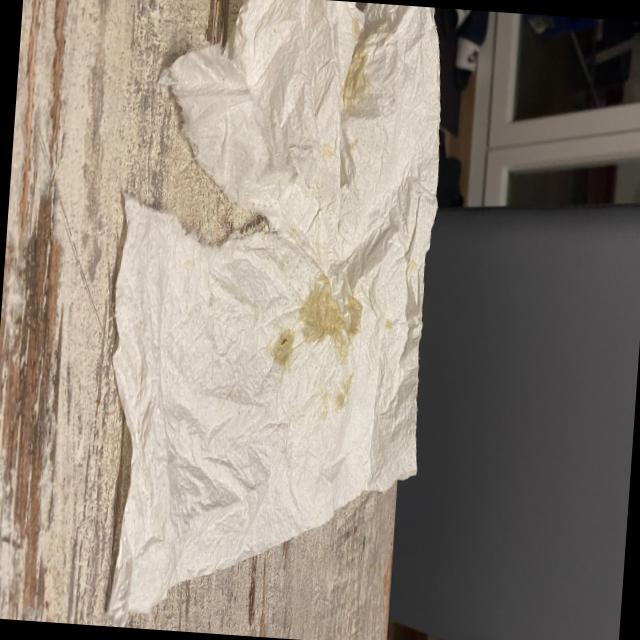organic waste: (86, 0, 454, 640)
